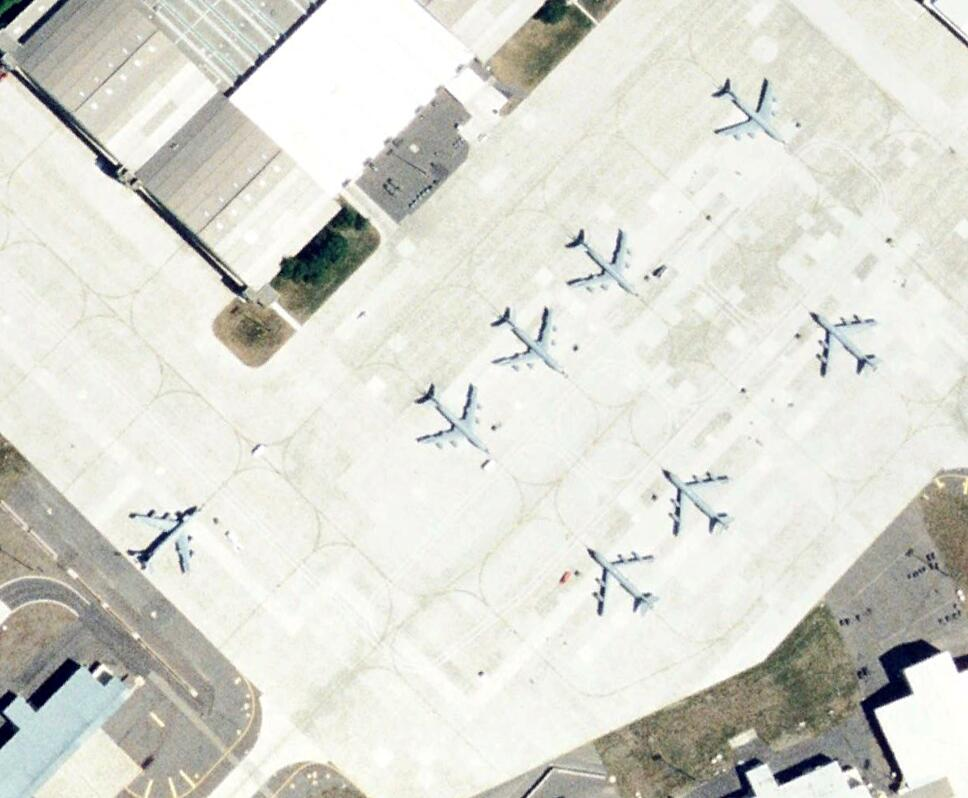A14: (408, 376, 498, 465), (489, 303, 568, 382), (709, 74, 792, 148), (586, 543, 663, 619), (127, 502, 205, 576), (566, 225, 640, 302), (808, 309, 886, 381), (662, 466, 737, 539)
